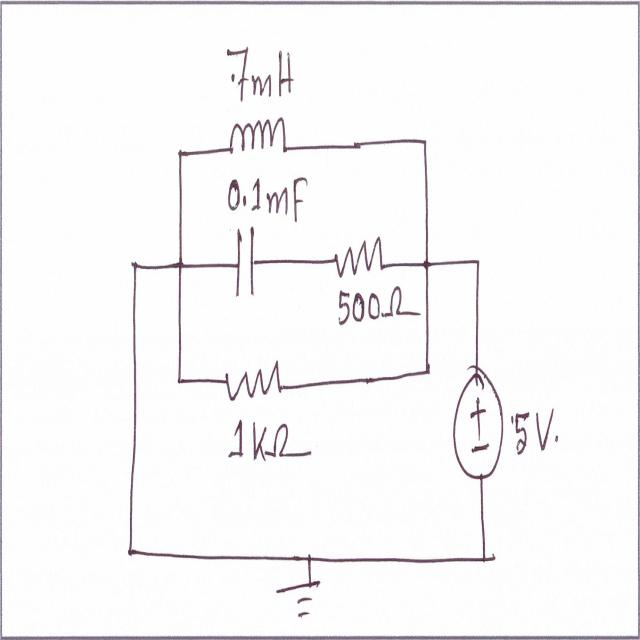capacitor: (233, 221, 259, 308)
ground: (271, 576, 331, 625)
inductor: (227, 106, 289, 170)
resistor: (223, 346, 286, 413), (330, 227, 389, 285)
voltage_source: (450, 355, 507, 486)
